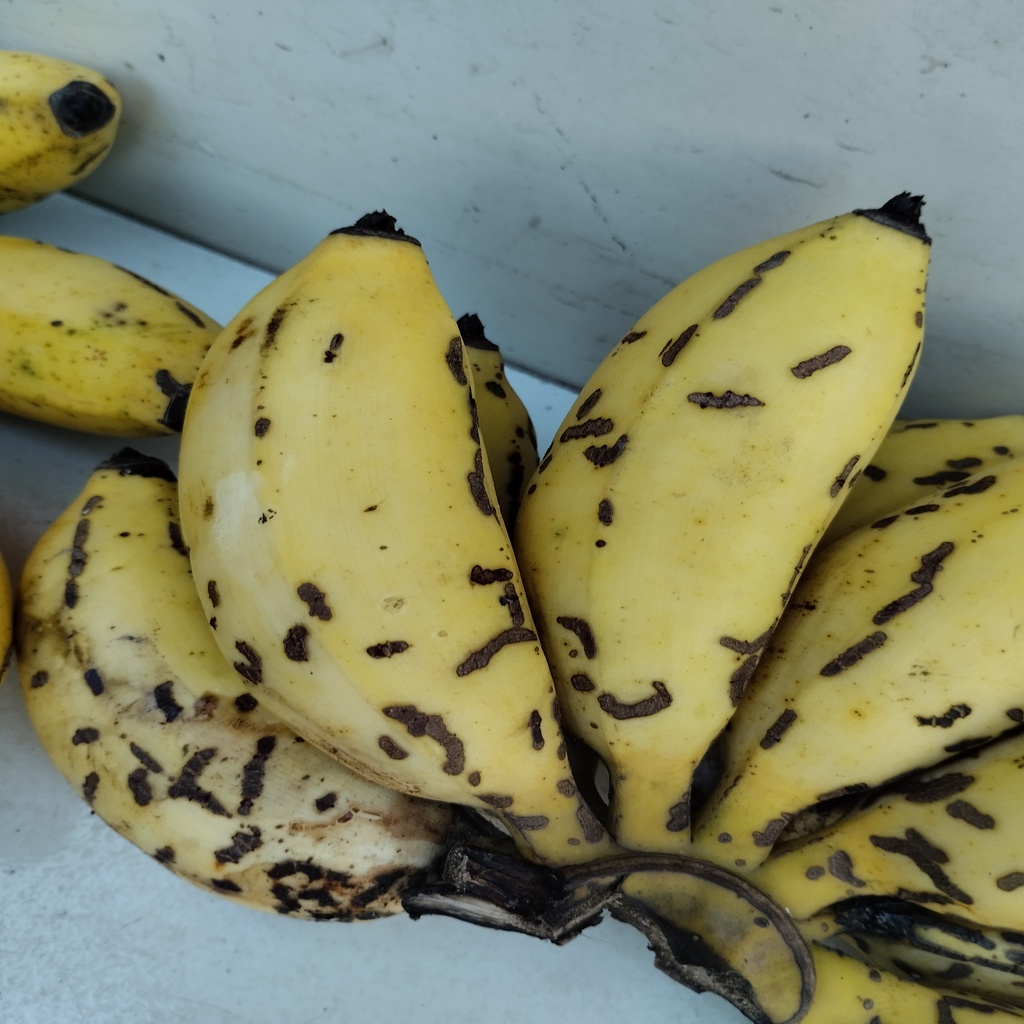unhealthy: (180, 234, 562, 852), (518, 216, 930, 757)
